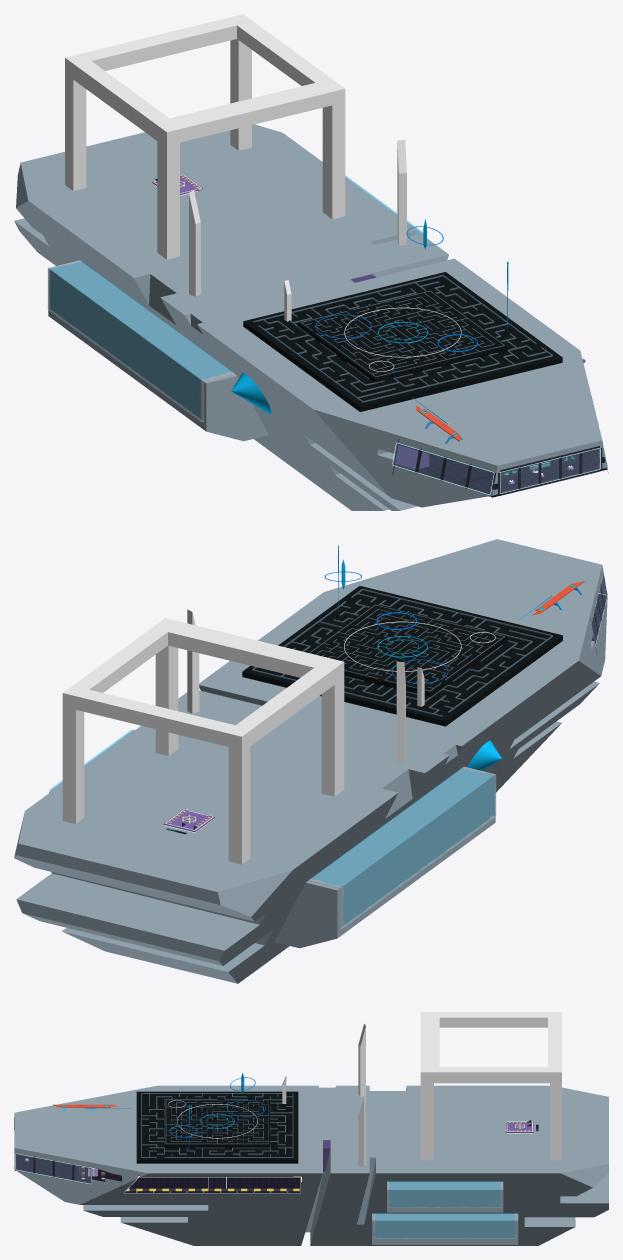
The model's file is Bird Temple Interior.glb.
The picture shows the model from 3 angles, top to bottom: view 1: azimuth 30°, elevation 25°; view 2: azimuth 150°, elevation 25°; view 3: azimuth 270°, elevation 25°; orthographic projection. The views are drawn at different scales.
Parts seen in each view (by area): view 1: Hull, Temple, Altar, Ballroom, Bwindow, Lower maze, BTI_Glass_Pane, Upper maze, BTI_Floor_Cmd, BTI_GlassFrame, Starboard obulisque, Port Obulisque (+1 smaller); view 2: Hull, Temple, Altar, Ballroom, Bwindow, Lower maze, Upper maze, Starboard obulisque, Port Obulisque, IX_Hatch_Lid, Hull window; view 3: Hull, Altar, Temple, Lower lounge, Upper Lounge, Llwindow, Ulwindow, BTI_Floor_Bay, Lower maze, Upper maze, BTI_Floor_Cmd, BTI_Glass_Pane (+5 smaller).
Part boxes in pixels (x1=…): Hull: x1=14, y1=124, x2=607, y2=510; Temple: x1=65, y1=14, x2=345, y2=259; Altar: x1=243, y1=272, x2=562, y2=411; Ballroom: x1=48, y1=260, x2=268, y2=441; Bwindow: x1=48, y1=260, x2=234, y2=421; Lower maze: x1=253, y1=275, x2=552, y2=402; BTI_Glass_Pane: x1=393, y1=444, x2=599, y2=493; Upper maze: x1=301, y1=290, x2=504, y2=377; BTI_Floor_Cmd: x1=418, y1=450, x2=607, y2=497; BTI_GlassFrame: x1=393, y1=443, x2=607, y2=495; Starboard obulisque: x1=189, y1=190, x2=200, y2=296; Port Obulisque: x1=397, y1=140, x2=406, y2=245; Hull: x1=14, y1=539, x2=607, y2=983; Temple: x1=62, y1=618, x2=344, y2=864; Altar: x1=242, y1=586, x2=562, y2=726; Ballroom: x1=274, y1=766, x2=495, y2=948; Bwindow: x1=308, y1=767, x2=495, y2=928; Lower maze: x1=252, y1=589, x2=553, y2=716; Upper maze: x1=309, y1=604, x2=504, y2=691; Starboard obulisque: x1=396, y1=661, x2=405, y2=764; Port Obulisque: x1=187, y1=609, x2=199, y2=713; IX_Hatch_Lid: x1=163, y1=809, x2=214, y2=832; Hull window: x1=467, y1=740, x2=501, y2=770; Hull: x1=14, y1=1085, x2=608, y2=1245; Altar: x1=136, y1=1091, x2=298, y2=1163; Temple: x1=420, y1=1012, x2=561, y2=1160; Lower lounge: x1=372, y1=1213, x2=518, y2=1244; Upper Lounge: x1=387, y1=1181, x2=503, y2=1212; Llwindow: x1=374, y1=1213, x2=515, y2=1238; Ulwindow: x1=388, y1=1181, x2=501, y2=1207; BTI_Floor_Bay: x1=124, y1=1177, x2=300, y2=1192; Lower maze: x1=141, y1=1093, x2=293, y2=1157; Upper maze: x1=165, y1=1100, x2=270, y2=1144; BTI_Floor_Cmd: x1=15, y1=1154, x2=121, y2=1188; BTI_Glass_Pane: x1=16, y1=1154, x2=90, y2=1182.
Bounding box in the file's own units: 89.56 × 76.78 × 227.
85 materials, 28 textured.
